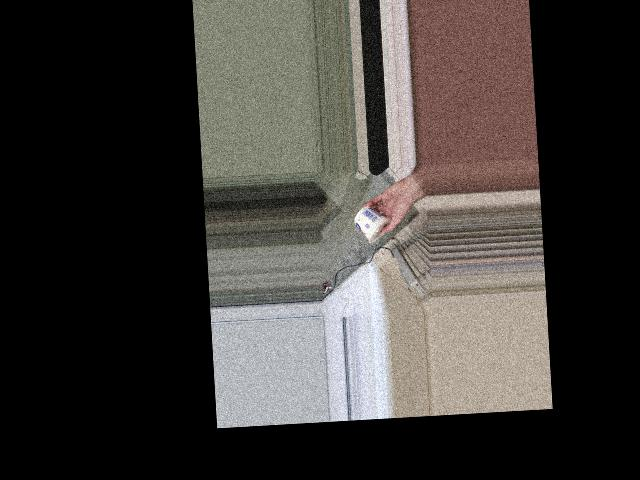cotage: (353, 202, 392, 245)
